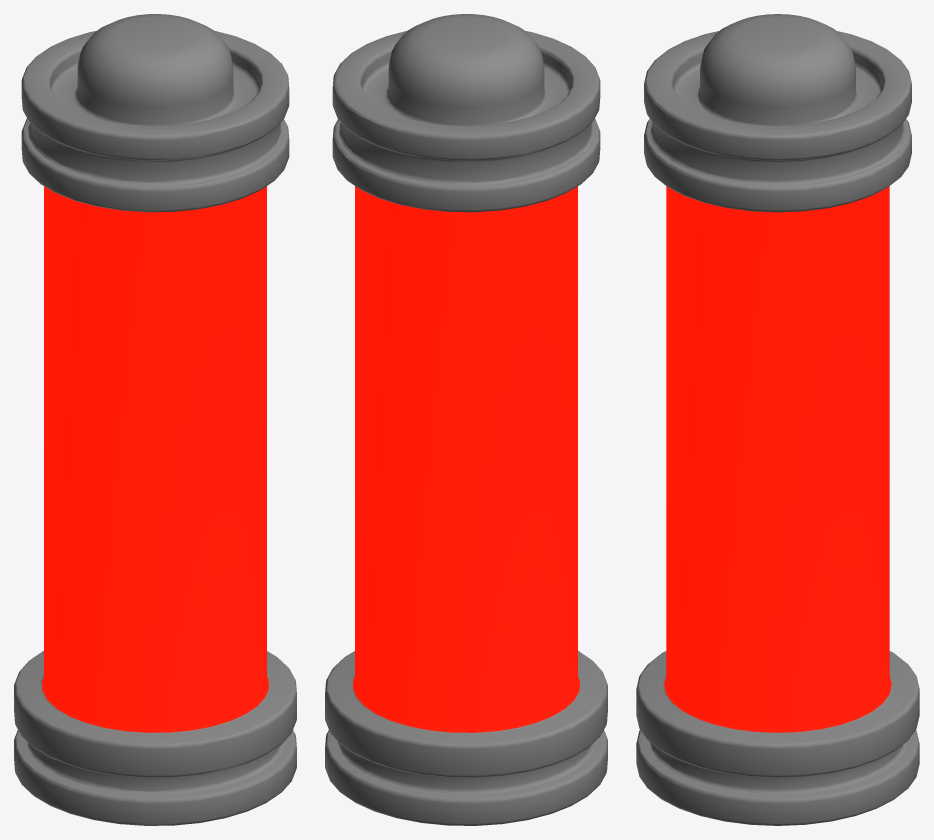
Rendered from Science_vial_red.fbx.
The picture shows the model from 3 angles, left to right: view 1: azimuth 30°, elevation 25°; view 2: azimuth 150°, elevation 25°; view 3: azimuth 270°, elevation 25°; orthographic projection.
Visible parts, largest first — view 1: Cylinder; view 2: Cylinder; view 3: Cylinder.
Boxes of the visible parts, x1,y1,x2,y2 form: Cylinder: (14,14,296,825); Cylinder: (325,14,607,825); Cylinder: (636,14,919,825).
Size of the model in its own units: 99.73 by 285 by 99.73.
